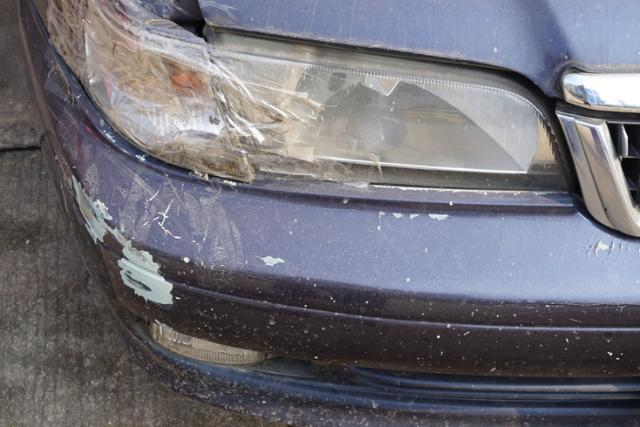Bumper: (30, 152, 467, 381)
Light: (67, 17, 304, 173)
